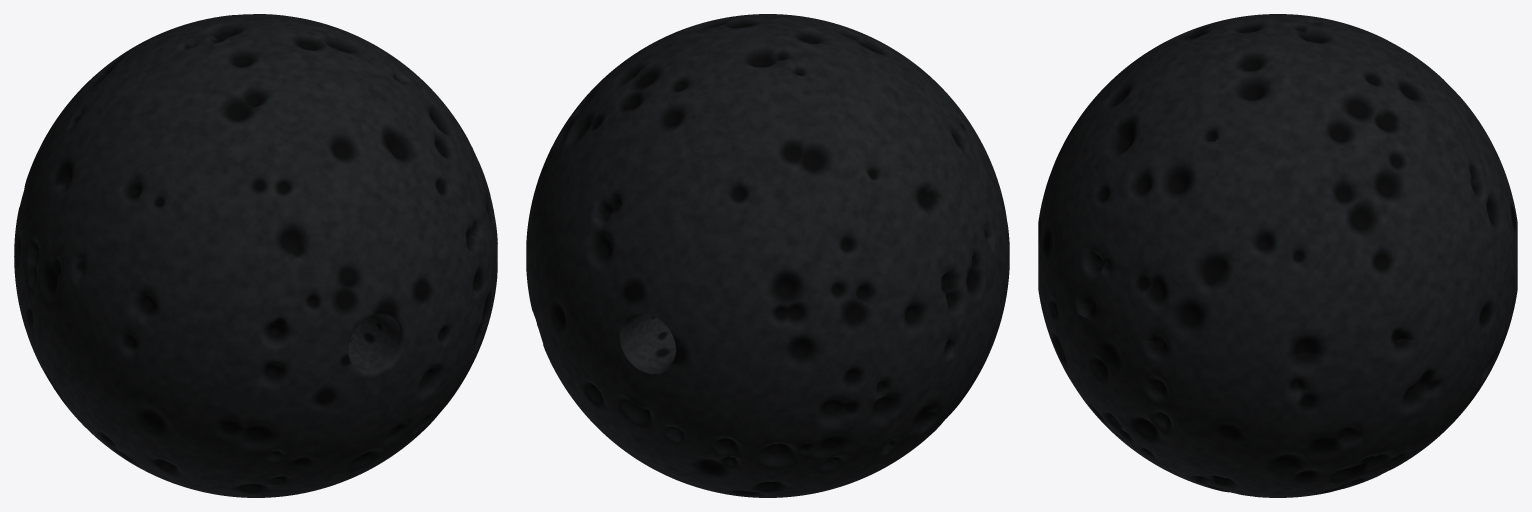
File: black-lava.glb
The picture shows the model from 3 angles, left to right: view 1: azimuth 30°, elevation 25°; view 2: azimuth 150°, elevation 25°; view 3: azimuth 270°, elevation 25°; orthographic projection.
Parts seen in each view (by area): view 1: black-lava.001; view 2: black-lava.001; view 3: black-lava.001.
Part boxes in pixels (bbox=[...]): black-lava.001: bbox=[14, 14, 497, 497]; black-lava.001: bbox=[526, 14, 1009, 497]; black-lava.001: bbox=[1038, 14, 1517, 497].
Bounding box in the file's own units: 0.008 × 0.00799 × 0.00793.
1 material, 1 textured.
